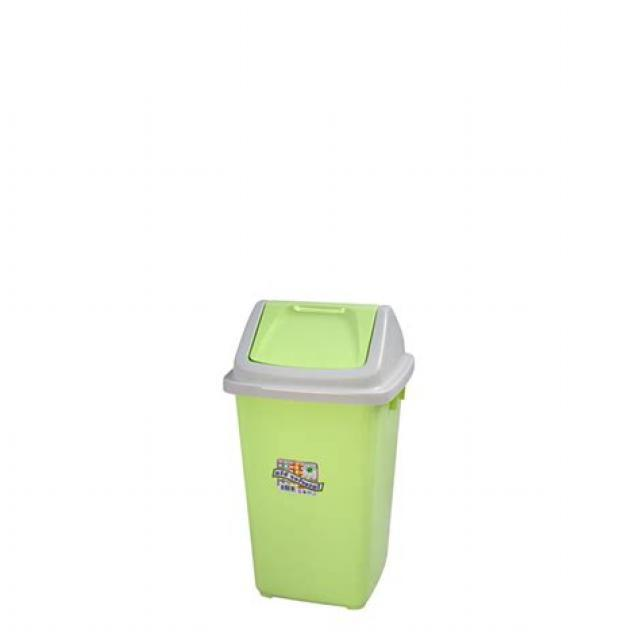garbage container: (190, 279, 430, 612)
